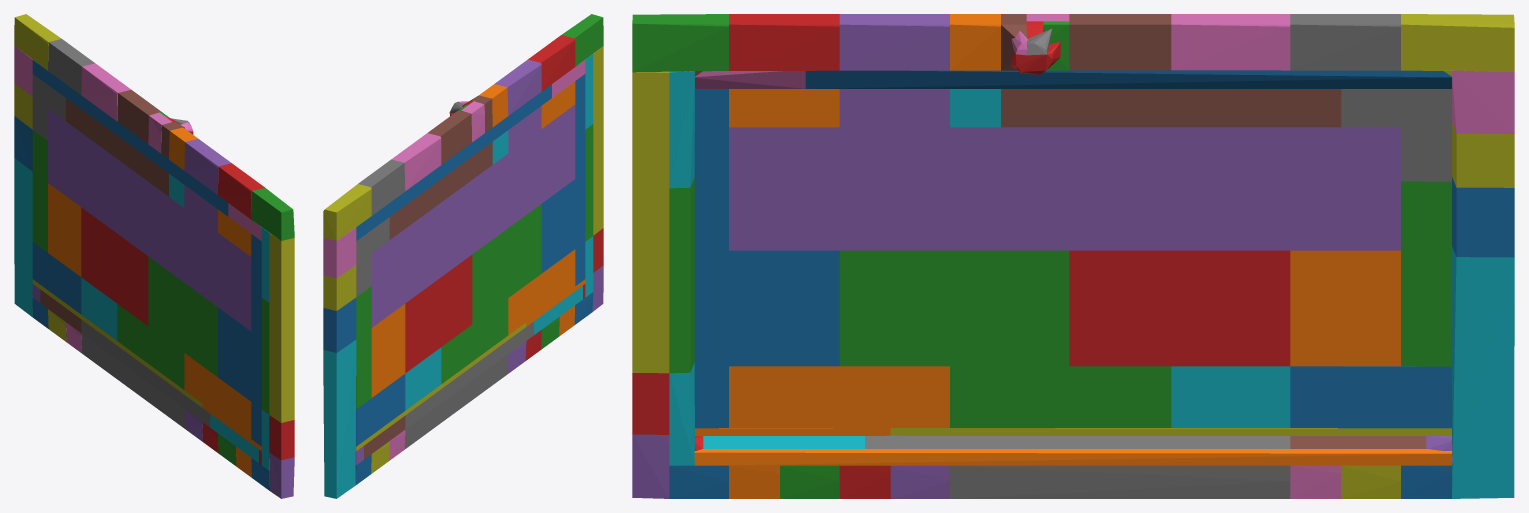
Rendered from Door_07_cvx.obj.
3 views of the same model, side by side, from view 1: azimuth 30°, elevation 25°; view 2: azimuth 150°, elevation 25°; view 3: azimuth 270°, elevation 25° (orthographic). The views are drawn at different scales.
Parts seen in each view (by area): view 1: scenes/apartment_0000_coacd/output/Unknown/Kitchen_Sink/Door_07/; view 2: scenes/apartment_0000_coacd/output/Unknown/Kitchen_Sink/Door_07/; view 3: scenes/apartment_0000_coacd/output/Unknown/Kitchen_Sink/Door_07/.
Boxes of the visible parts, x1=… form: scenes/apartment_0000_coacd/output/Unknown/Kitchen_Sink/Door_07/: x1=14, y1=14, x2=294, y2=498; scenes/apartment_0000_coacd/output/Unknown/Kitchen_Sink/Door_07/: x1=323, y1=14, x2=603, y2=498; scenes/apartment_0000_coacd/output/Unknown/Kitchen_Sink/Door_07/: x1=632, y1=14, x2=1514, y2=498.
Size of the model in its own units: 0.0447 by 0.3996 by 0.6726.
